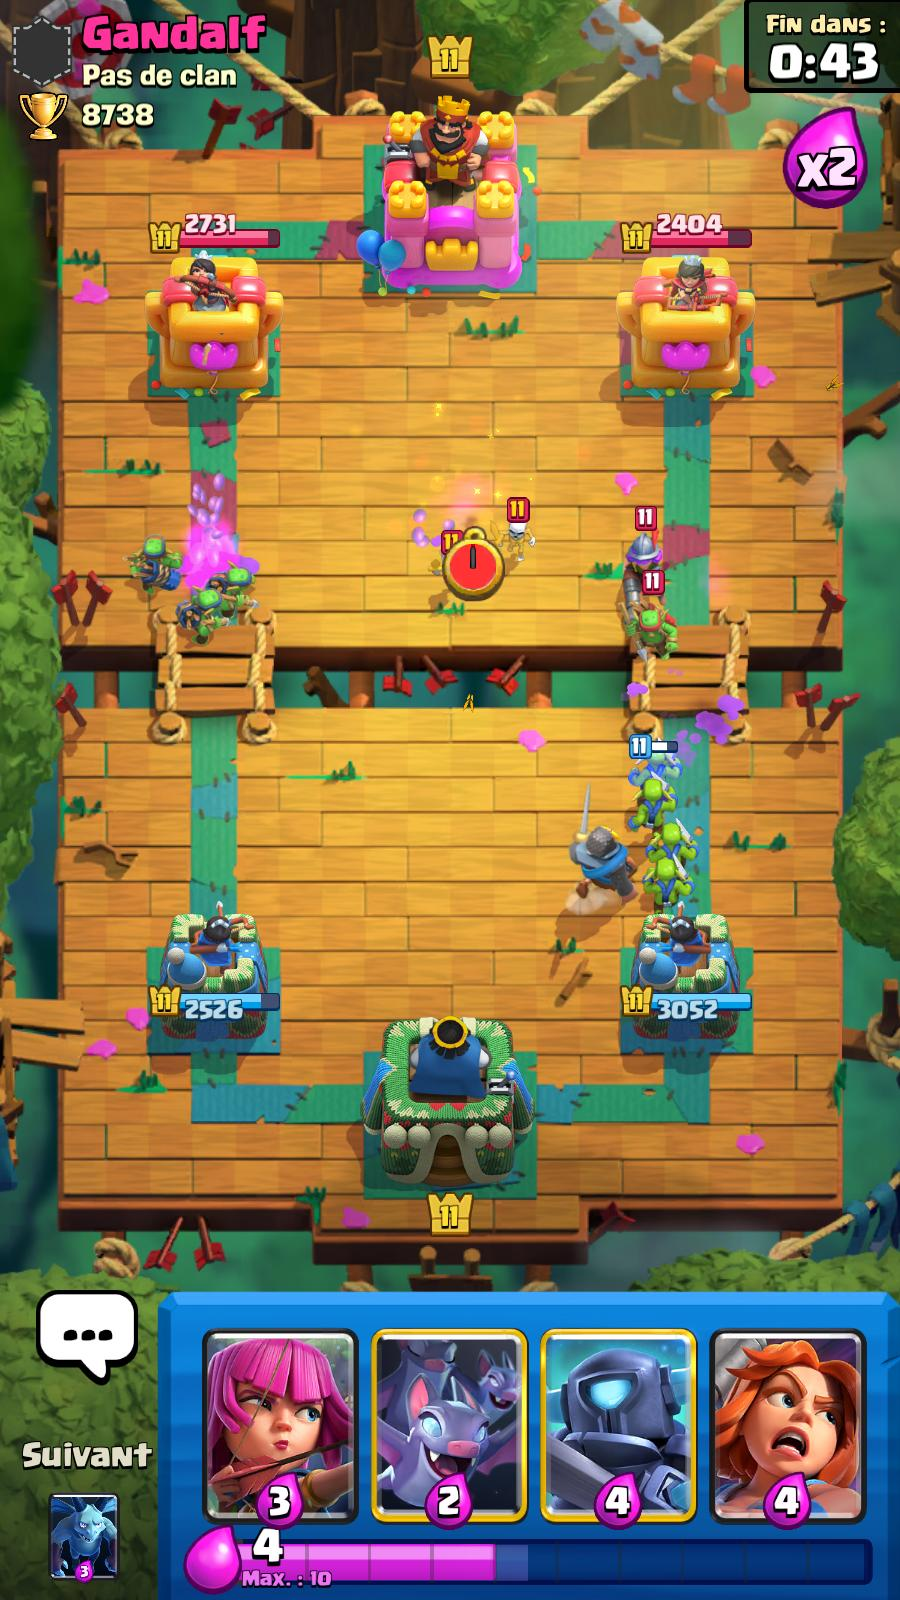chevalier: (569, 781, 642, 908)
gobelin: (627, 768, 680, 847), (629, 737, 684, 808), (645, 818, 702, 881), (645, 854, 693, 918)
gobelin_lances: (615, 571, 679, 666), (123, 532, 185, 599), (173, 586, 232, 648), (204, 563, 259, 627)
mousquetaire: (621, 503, 668, 621)
squelette: (489, 493, 538, 563), (432, 532, 464, 601)
